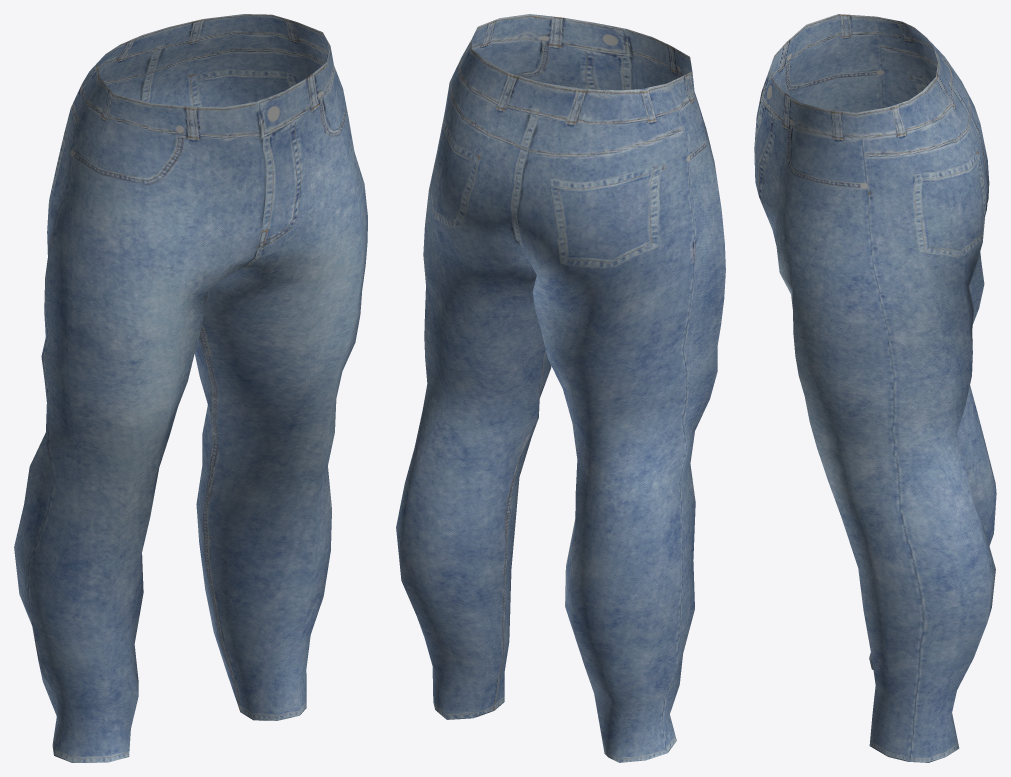
The model's file is M_Jeans_BS.fbx.
3 views of the same model, side by side, from view 1: azimuth 30°, elevation 25°; view 2: azimuth 150°, elevation 25°; view 3: azimuth 270°, elevation 25° (orthographic). The views are drawn at different scales.
Visible parts, largest first — view 1: M_Jeans; view 2: M_Jeans; view 3: M_Jeans.
Boxes of the visible parts, box(x1,y1,x2,y2) form: M_Jeans: box(14, 14, 367, 762); M_Jeans: box(396, 14, 725, 762); M_Jeans: box(754, 14, 996, 762).
Bounding box in the file's own units: 13.15 × 29.91 × 10.07.
